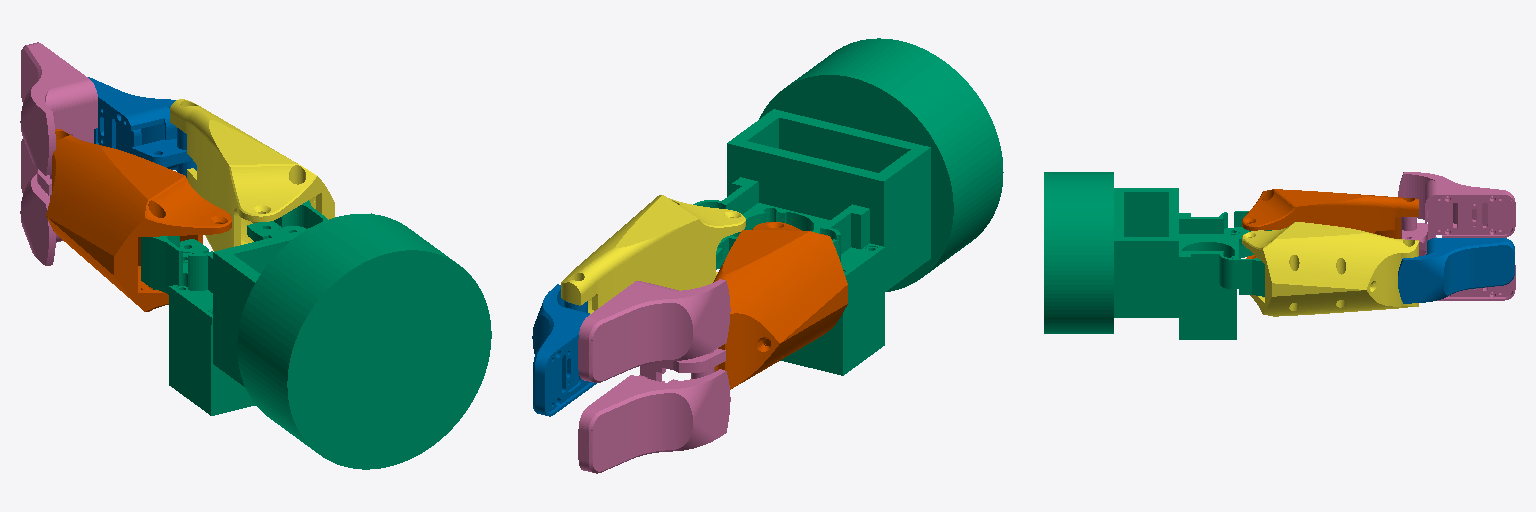
URDF robot description (sr_gripper_custom):
<?xml version="1.0"?>
<robot name="sr_gripper_custom">
  <!--
    Before changing geometry here, read "Changing SR-Gripper URDF Parameters"
    in docs/llm/perception.md. Constants elsewhere are derived from this file
    (notably planning.SR_GRIPPER_PLANNING_OPEN_ANGLE), the collision dsf_vert
    meshes are fitted from the visual STLs and must be regenerated when those
    change, and perception FK depends on the finger-tip link names, the joint
    order/signs below, and a monotonic terminal width over 0.0..0.9 rad.
  -->

  <link name="world"/>

  <!--
    GraspGen inherits StoneGrab's +Y approach-axis convention. Keep that
    convention at the floating grasp pose while rotating the physical SR
    gripper back so its finger chain still extends along physical-base +Z.
    Grasp +X maps to physical -X. The physical right (+X) branch carries two
    pads and therefore lies at grasp -X; the physical left branch carries one.
  -->
  <joint name="grasp_joint" type="floating">
    <parent link="world"/>
    <child link="grasp_frame"/>
    <origin xyz="0 0 0" rpy="0 0 0"/>
  </joint>

  <link name="grasp_frame"/>

  <joint name="grasp_to_physical_base" type="fixed">
    <parent link="grasp_frame"/>
    <child link="base_link"/>
    <origin xyz="0 -0.01 0"
            rpy="0 0 1.570796326794897"/>
  </joint>

  <link name="base_link">
    <visual>
      <geometry>
        <mesh filename="meshes/visual/body.stl"/>
      </geometry>
    </visual>
    <collision name="base_mount">
      <geometry>
        <dsf_vert filename="apps/tabletop/assets/sr_gripper/meshes/collision/body_dsf1.obj"
                  contact="false"/>
      </geometry>
    </collision>
    <collision name="base_body">
      <geometry>
        <dsf_vert filename="apps/tabletop/assets/sr_gripper/meshes/collision/body_dsf2.obj"
                  contact="false"/>
      </geometry>
    </collision>
  </link>

  <link name="left_finger_link_1">
    <visual>
      <geometry>
        <mesh filename="meshes/visual/arm_left.stl"/>
      </geometry>
    </visual>
    <collision>
      <geometry>
        <dsf_vert filename="apps/tabletop/assets/sr_gripper/meshes/collision/arm_left_dsf1.obj"
                  contact="false"/>
      </geometry>
    </collision>
  </link>

  <link name="left_finger_tip">
    <visual>
      <origin xyz="0 0 0" rpy="0 0 -1.570796326794897"/>
      <geometry>
        <mesh filename="meshes/visual/tip_left.stl"/>
      </geometry>
    </visual>
    <collision name="left_tip_pad">
      <geometry>
        <dsf_vert filename="apps/tabletop/assets/sr_gripper/meshes/collision/tip_left_dsf1.obj"
                  contact="true"/>
      </geometry>
    </collision>
  </link>

  <link name="right_finger_link_1">
    <visual>
      <geometry>
        <mesh filename="meshes/visual/arm_right.stl"/>
      </geometry>
    </visual>
    <collision>
      <geometry>
        <dsf_vert filename="apps/tabletop/assets/sr_gripper/meshes/collision/arm_right_dsf1.obj"
                  contact="false"/>
      </geometry>
    </collision>
  </link>

  <link name="right_finger_tip">
    <visual>
      <origin xyz="0 0 0" rpy="3.141592653589793 0 1.570796326794897"/>
      <geometry>
        <mesh filename="meshes/visual/tip_right.stl"/>
      </geometry>
    </visual>
    <collision name="right_tip_bridge">
      <geometry>
        <dsf_vert filename="apps/tabletop/assets/sr_gripper/meshes/collision/tip_right_bridge_dsf1.obj"
                  contact="false"/>
      </geometry>
    </collision>
    <collision name="right_tip_upper_pad">
      <geometry>
        <dsf_vert filename="apps/tabletop/assets/sr_gripper/meshes/collision/tip_right_upper_dsf1.obj"
                  contact="true"/>
      </geometry>
    </collision>
    <collision name="right_tip_lower_pad">
      <geometry>
        <dsf_vert filename="apps/tabletop/assets/sr_gripper/meshes/collision/tip_right_lower_dsf1.obj"
                  contact="true"/>
      </geometry>
    </collision>
  </link>

  <joint name="left_finger_joint_1" type="revolute">
    <parent link="base_link"/>
    <child link="left_finger_link_1"/>
    <origin xyz="0.11 -0.0275 0" rpy="0 0 0"/>
    <axis xyz="0 0 -1"/>
    <limit lower="-0.1" upper="0.9"/>
  </joint>

  <joint name="left_finger_joint_2" type="revolute">
    <parent link="left_finger_link_1"/>
    <child link="left_finger_tip"/>
    <origin xyz="0.0693 0.0025 0" rpy="0 0 0"/>
    <axis xyz="0 0 -1"/>
    <limit lower="-0.9" upper="0.1"/>
    <mimic joint="left_finger_joint_1" multiplier="-1" offset="0"/>
  </joint>

  <joint name="right_finger_joint_1" type="revolute">
    <parent link="base_link"/>
    <child link="right_finger_link_1"/>
    <origin xyz="0.11 0.0275 0" rpy="3.141592653589793 0 0"/>
    <axis xyz="0 0 -1"/>
    <limit lower="-0.1" upper="0.9"/>
    <mimic joint="left_finger_joint_1" multiplier="1" offset="0"/>
  </joint>

  <joint name="right_finger_joint_2" type="revolute">
    <parent link="right_finger_link_1"/>
    <child link="right_finger_tip"/>
    <origin xyz="0.0693 0.0025 0" rpy="0 0 0"/>
    <axis xyz="0 0 -1"/>
    <limit lower="-0.9" upper="0.1"/>
    <mimic joint="left_finger_joint_1" multiplier="-1" offset="0"/>
  </joint>
</robot>

--- What the picture shows (computed from the rendered views, not written in the file) ---
3 views of the same robot in one strip: view 1: azimuth 30°, elevation 25°; view 2: azimuth 150°, elevation 25°; view 3: azimuth 270°, elevation 25° (orthographic).
Model sr_gripper_custom with 7 links and 6 joints (4 revolute, 1 fixed, 1 floating), rooted at world, posed all joints at 0.
Links seen in each view (by area): view 1: base_link, right_finger_link_1, left_finger_link_1, right_finger_tip, left_finger_tip; view 2: base_link, right_finger_tip, right_finger_link_1, left_finger_link_1, left_finger_tip; view 3: base_link, left_finger_link_1, right_finger_tip, left_finger_tip, right_finger_link_1.
Boxes of the visible links, x1,y1,x2,y2 form: base_link: (141, 200, 491, 469); right_finger_link_1: (46, 129, 231, 311); left_finger_link_1: (170, 99, 334, 251); right_finger_tip: (20, 42, 97, 265); left_finger_tip: (88, 77, 196, 177); base_link: (693, 38, 1003, 375); right_finger_tip: (578, 279, 730, 473); right_finger_link_1: (690, 222, 847, 389); left_finger_link_1: (561, 195, 745, 313); left_finger_tip: (532, 284, 596, 416); base_link: (1044, 172, 1271, 339); left_finger_link_1: (1242, 222, 1418, 316); right_finger_tip: (1398, 172, 1515, 300); left_finger_tip: (1398, 238, 1514, 303); right_finger_link_1: (1242, 189, 1418, 258).
Size in the robot's own frame: 0.0865 by 0.2316 by 0.0805 metres.
5 mesh visuals loaded from 5 distinct referenced files (5 binary STL).
